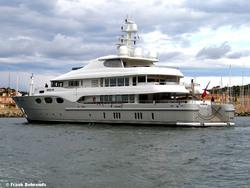yacht: (11, 11, 240, 125)
